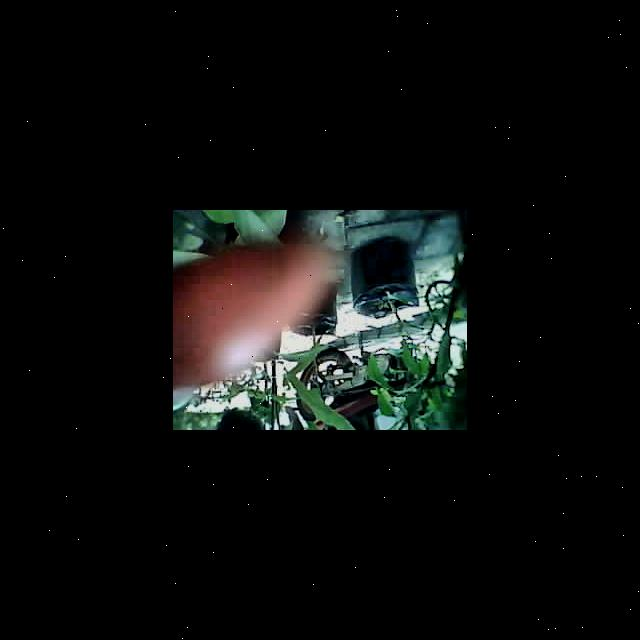Cabai: (173, 238, 303, 385)
